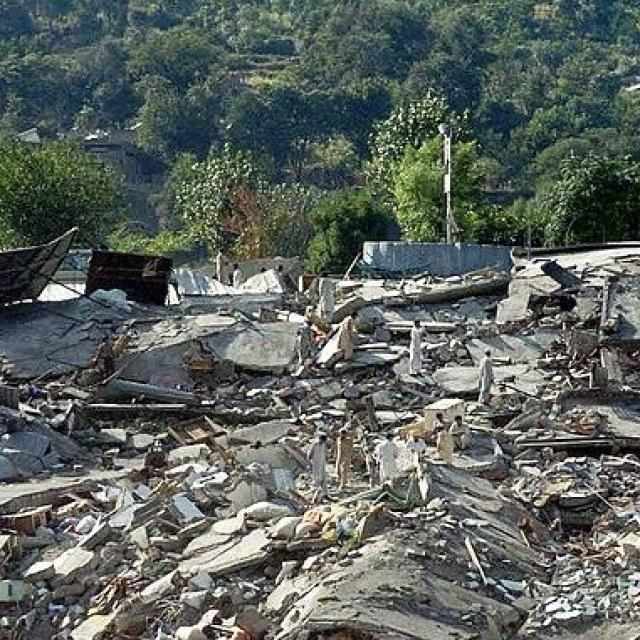collapsed_building: (0, 274, 638, 638)
